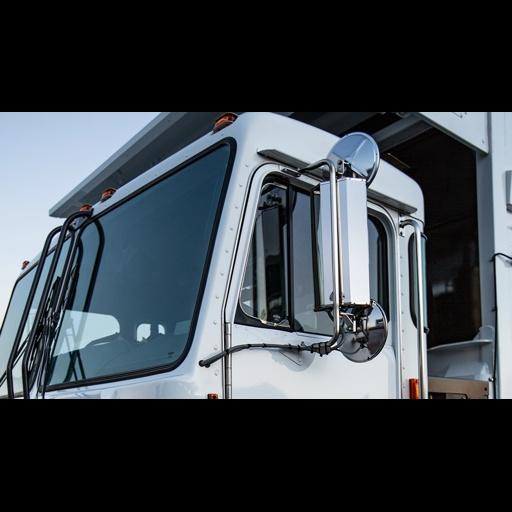truck: (0, 110, 512, 403)
